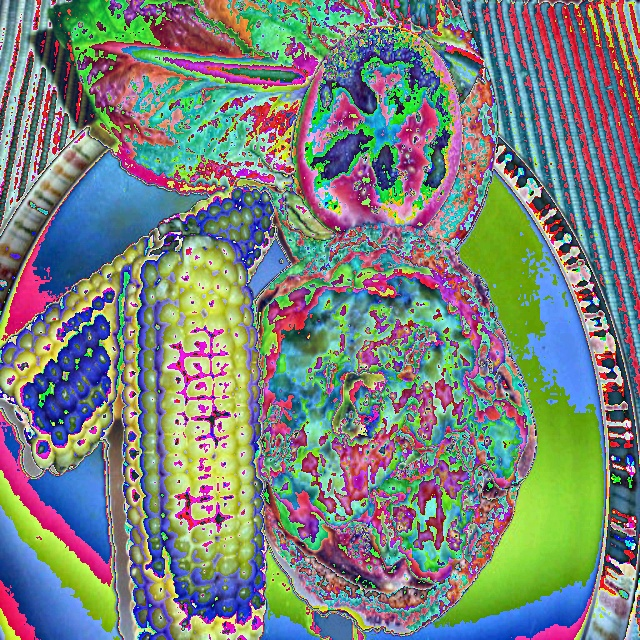background: (0, 0, 538, 640)
